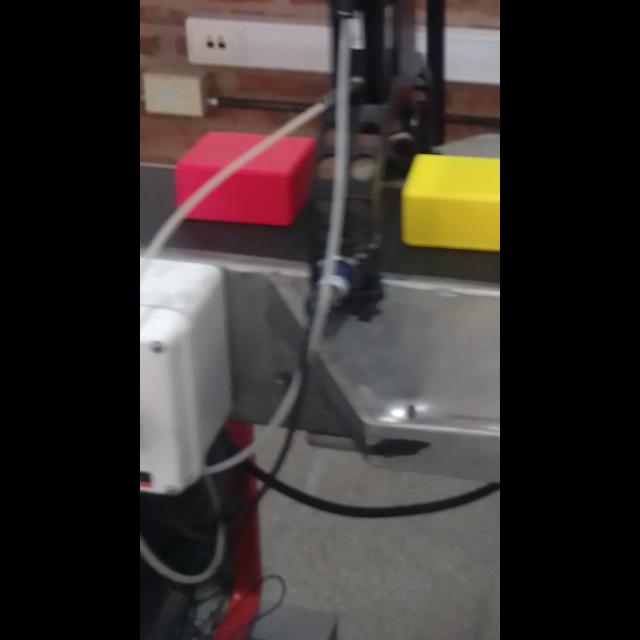redBox: (169, 121, 327, 237)
yellowBox: (384, 130, 500, 268)
